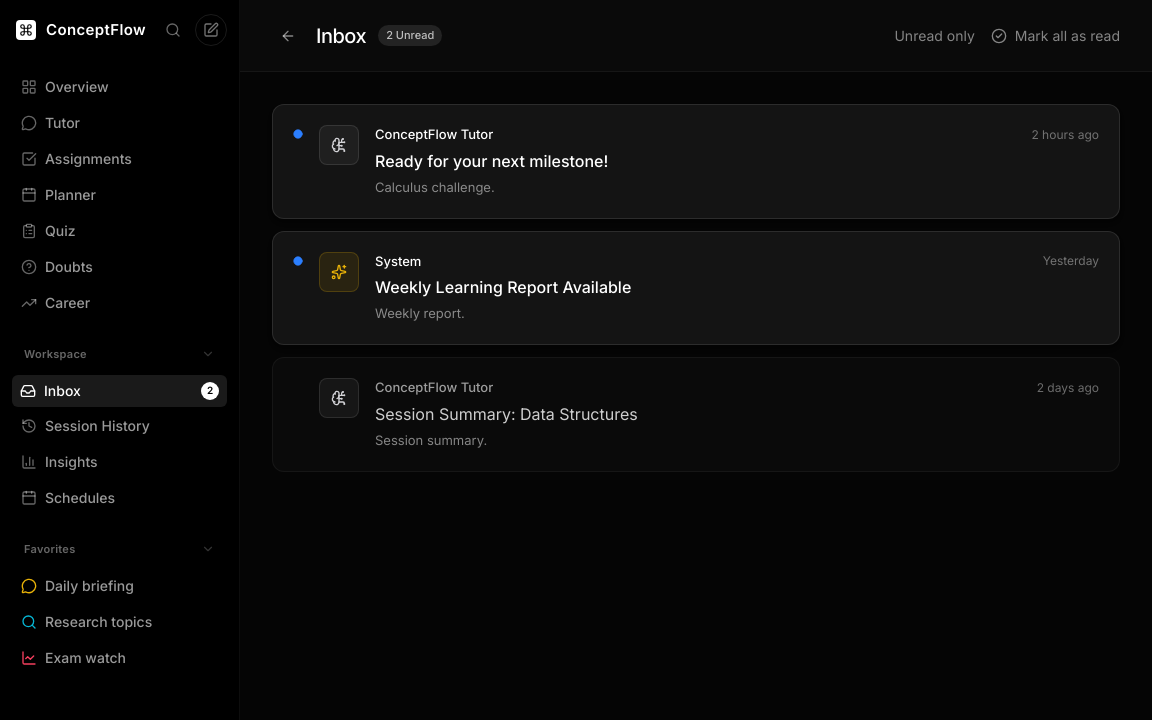
Inbox › unread count, expand + action, filter and mark all read stay in sync with the sidebar badge
Expected: the text "2 Unread" is shown, x1=378 y1=25 x2=442 y2=46
Expected: the text named "2 unread" is shown, x1=201 y1=382 x2=219 y2=400
What coordinates should you click on to do the following:
click the button "Ready for your next milestone"
I would click on:
 (339, 145)
Its box is x1=273 y1=105 x2=1119 y2=218.
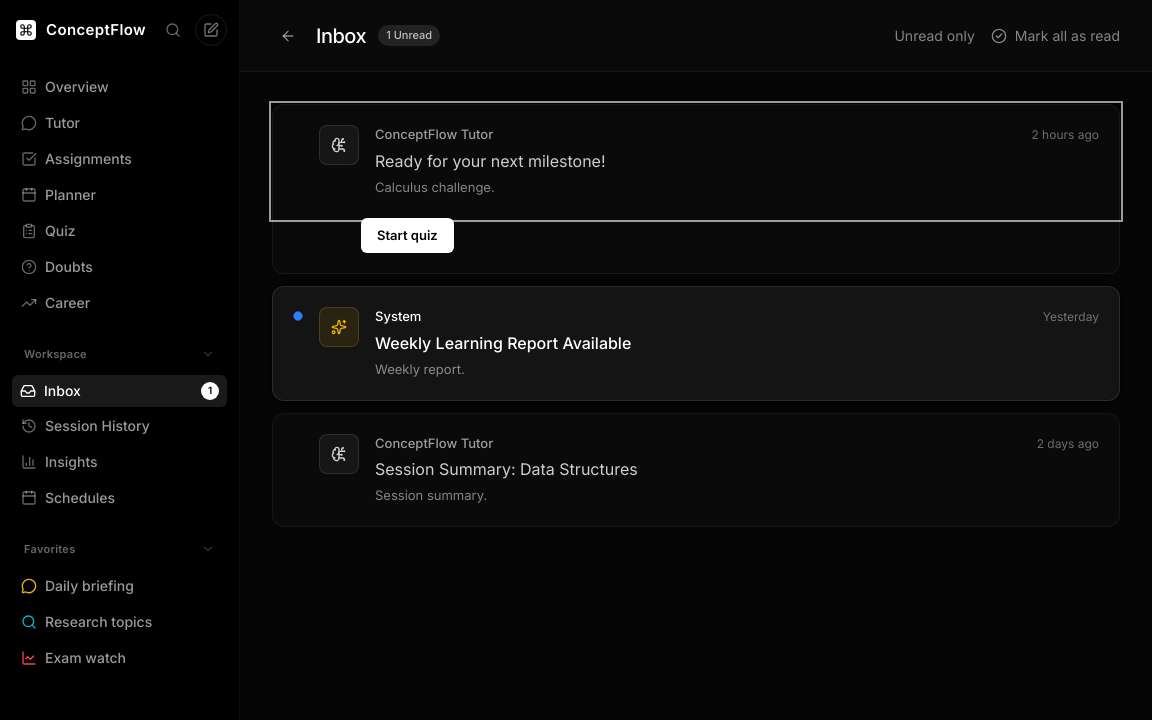
Result: the text "1 Unread" is shown at x1=378 y1=25 x2=440 y2=46
What coordinates should you click on to do the following:
click the button "Unread only"
I would click on:
 (935, 36)
Its box is x1=894 y1=26 x2=975 y2=46.
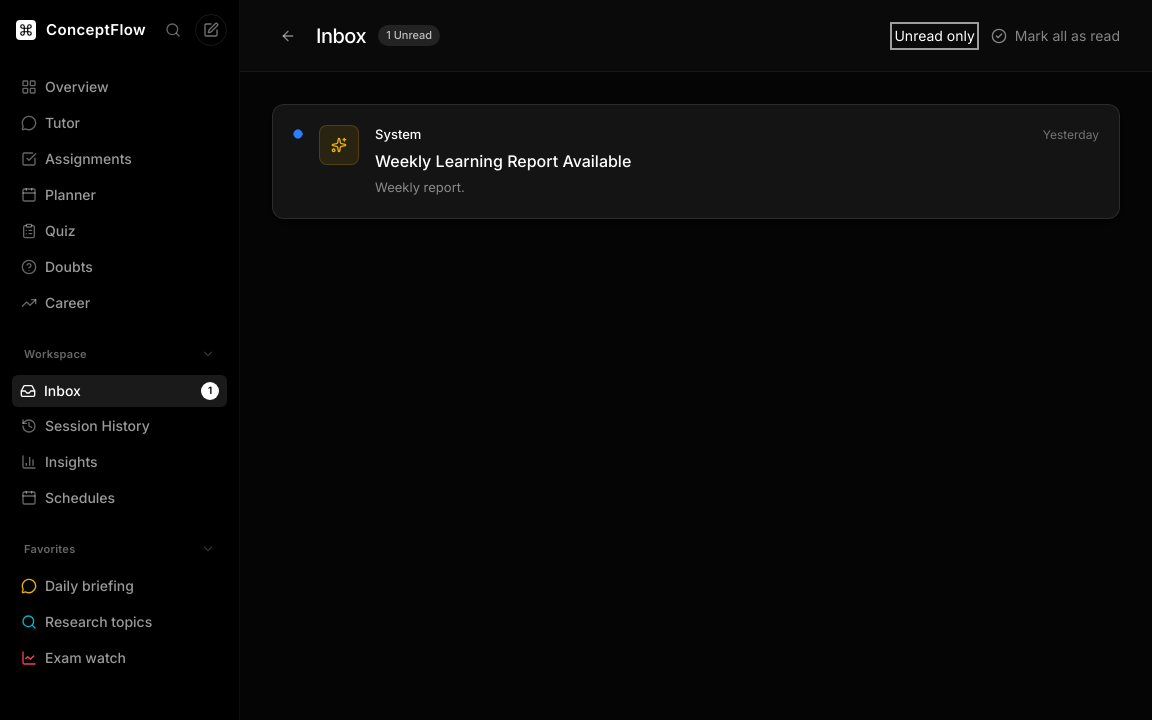
Result: the button "Session Summary: Data Structures" is gone
What coordinates should you click on to do the following:
click the button "Mark all as read"
I would click on:
 (1055, 36)
Its box is x1=991 y1=26 x2=1120 y2=46.
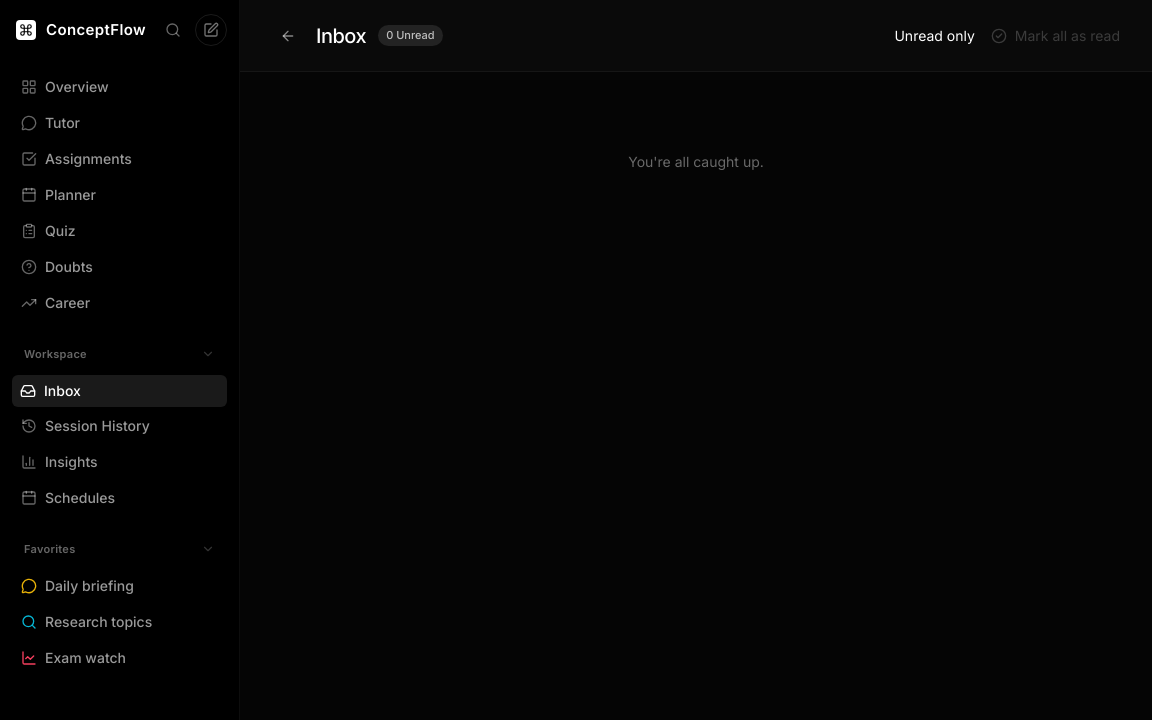
Result: the text "0 Unread" is shown at x1=378 y1=25 x2=443 y2=46
Result: the text "You're all caught up." is shown at x1=628 y1=153 x2=764 y2=170
